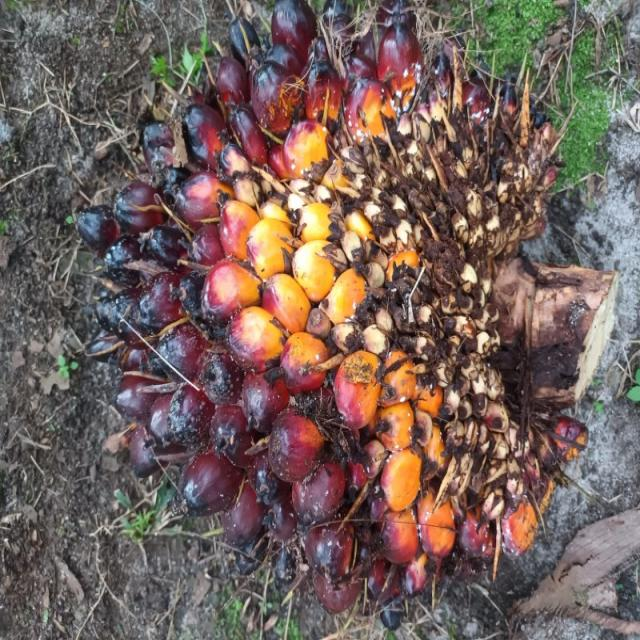fraksi 1: (3, 74, 470, 640)
